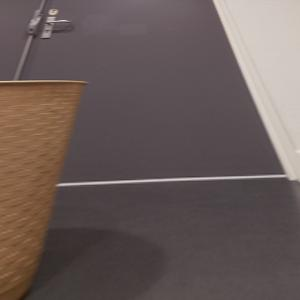medium: (1, 80, 86, 299)
